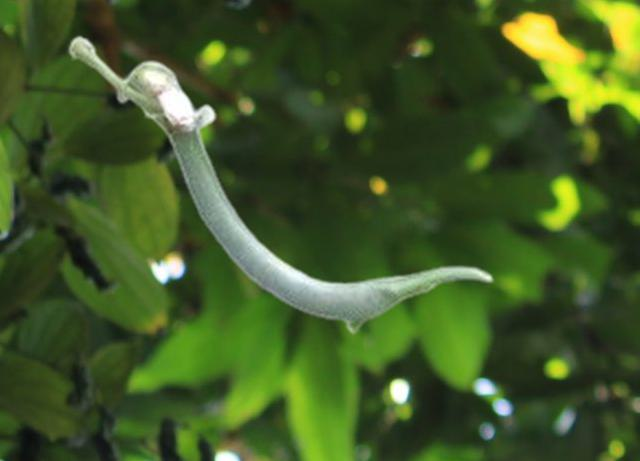french_bean: (67, 34, 493, 334)
